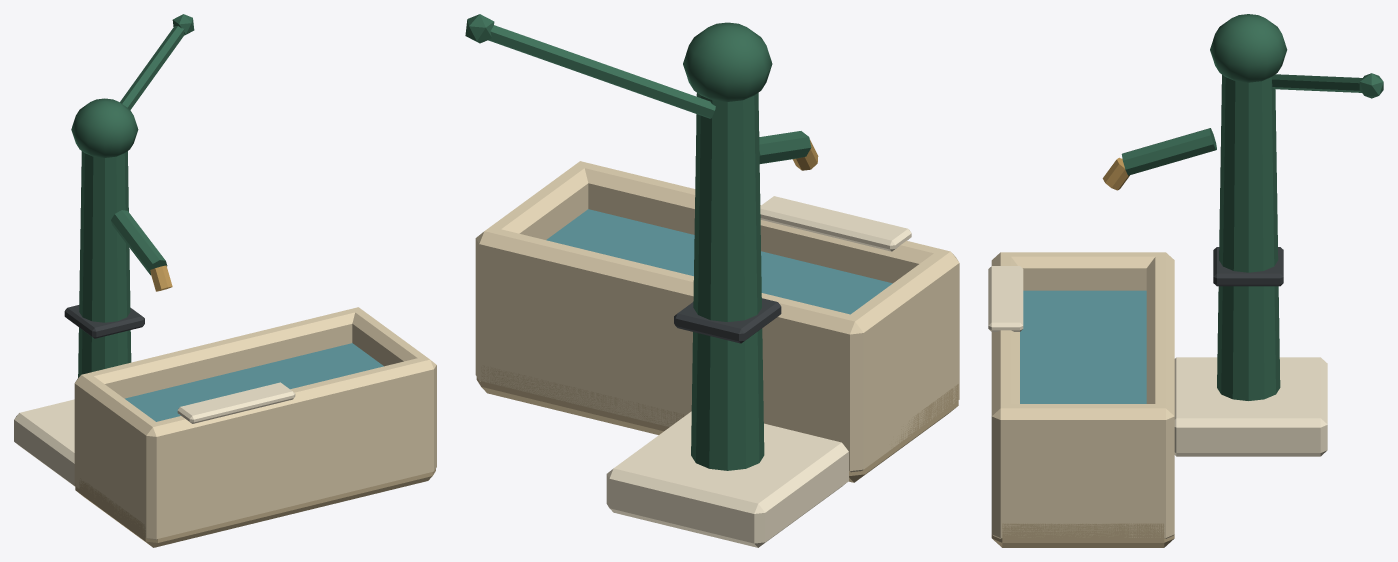
3 renders of one model, left to right at view 1: azimuth 30°, elevation 25°; view 2: azimuth 150°, elevation 25°; view 3: azimuth 270°, elevation 25°, orthographic. The views are drawn at different scales.
Parts seen in each view (by area): view 1: lane_limestone, lane_shutter_dark, lane_water, lane_limestone_pale, lane_limestone_shade, lane_iron; view 2: lane_limestone, lane_shutter_dark, lane_limestone_pale, lane_water, lane_limestone_shade, lane_iron; view 3: lane_limestone, lane_shutter_dark, lane_limestone_pale, lane_water, lane_limestone_shade, lane_iron, lane_brass.
Boxes of the visible parts, x1=… form: lane_limestone: x1=74, y1=307, x2=436, y2=539; lane_shutter_dark: x1=71, y1=14, x2=194, y2=377; lane_water: x1=125, y1=343, x2=383, y2=421; lane_limestone_pale: x1=14, y1=382, x2=295, y2=486; lane_limestone_shade: x1=75, y1=469, x2=435, y2=547; lane_iron: x1=64, y1=305, x2=144, y2=338; lane_limestone: x1=475, y1=161, x2=959, y2=472; lane_shutter_dark: x1=465, y1=14, x2=811, y2=470; lane_limestone_pale: x1=606, y1=196, x2=911, y2=547; lane_water: x1=546, y1=209, x2=892, y2=314; lane_limestone_shade: x1=476, y1=365, x2=958, y2=482; lane_iron: x1=674, y1=298, x2=781, y2=343; lane_limestone: x1=991, y1=252, x2=1174, y2=538; lane_shutter_dark: x1=1121, y1=14, x2=1383, y2=400; lane_limestone_pale: x1=988, y1=266, x2=1327, y2=456; lane_water: x1=1020, y1=290, x2=1146, y2=403; lane_limestone_shade: x1=991, y1=523, x2=1174, y2=547; lane_iron: x1=1213, y1=247, x2=1283, y2=286; lane_brass: x1=1102, y1=157, x2=1129, y2=190.
Bounding box in the file's own units: 1.1 × 1.34 × 1.12.
